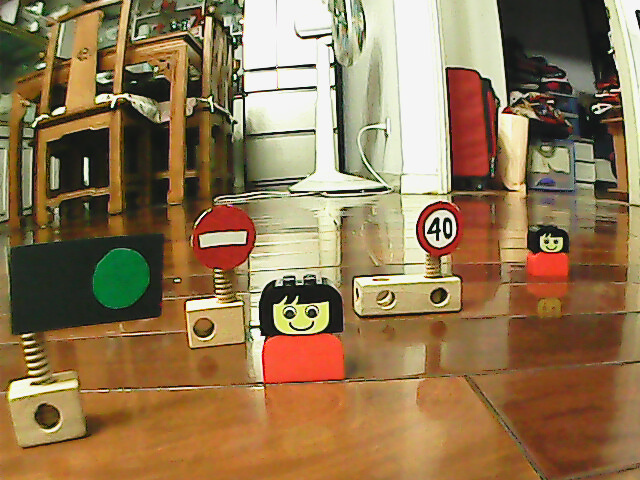Green Traffic Light: (87, 243, 158, 317)
Person: (256, 272, 348, 384), (524, 222, 572, 280)
Speed Limit 40: (413, 200, 466, 257)
Stop Sign: (188, 203, 258, 270)
